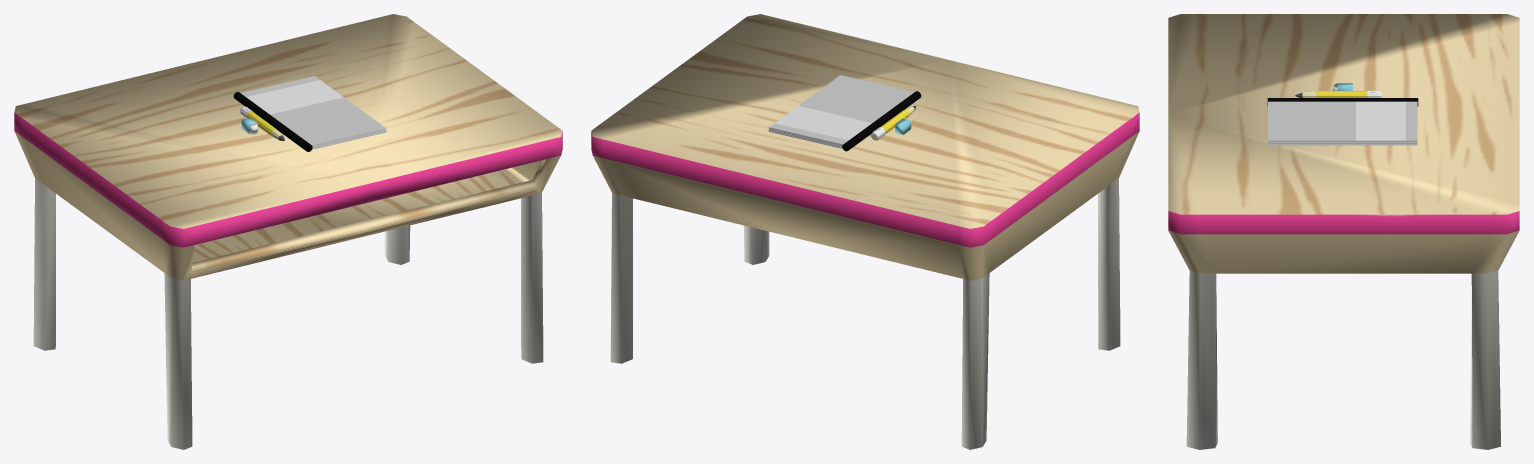
The model's file is Meja murid.fbx.
The picture shows the model from 3 angles, left to right: view 1: azimuth 30°, elevation 25°; view 2: azimuth 150°, elevation 25°; view 3: azimuth 270°, elevation 25°; orthographic projection. The views are drawn at different scales.
Parts seen in each view (by area): view 1: meja.001, ATK buku.001; view 2: meja.001, ATK buku.001; view 3: meja.001, ATK buku.001, ATK pensil.001.
Part boxes in pixels (x1=…): meja.001: x1=14, y1=14, x2=562, y2=449; ATK buku.001: x1=233, y1=76, x2=386, y2=151; meja.001: x1=591, y1=14, x2=1139, y2=449; ATK buku.001: x1=768, y1=75, x2=921, y2=151; meja.001: x1=1168, y1=14, x2=1519, y2=449; ATK buku.001: x1=1267, y1=98, x2=1418, y2=145; ATK pensil.001: x1=1295, y1=90, x2=1381, y2=97.
Bounding box in the file's own units: 659 × 383 × 488.
